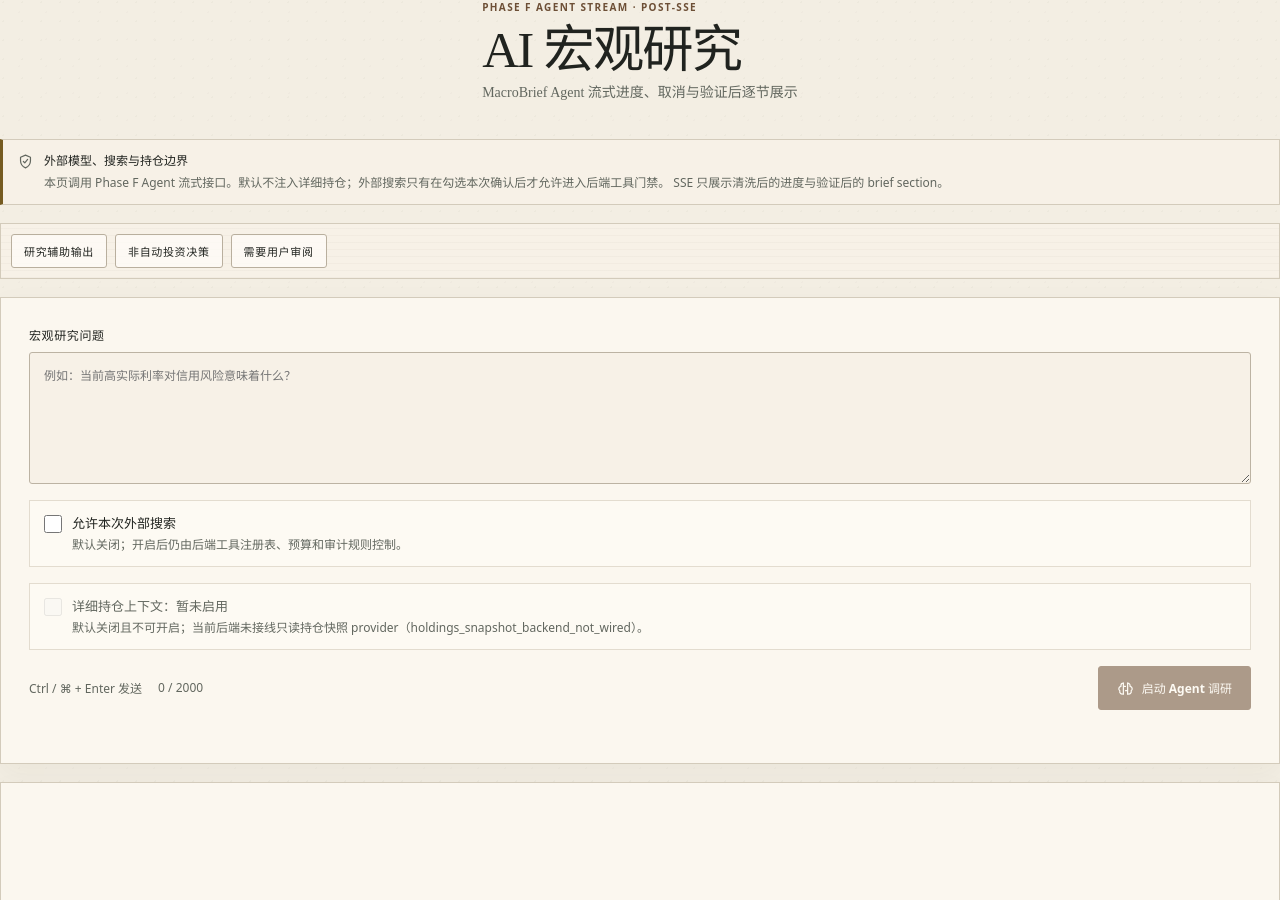
Scenario: AIChatPage Agent SSE › streams validated brief sections into the paper result panel
Type "当前高实际利率对信用风险意味着什么？" into the text box labelled "宏观研究问题" at (640, 418), box [29,352,1251,484]
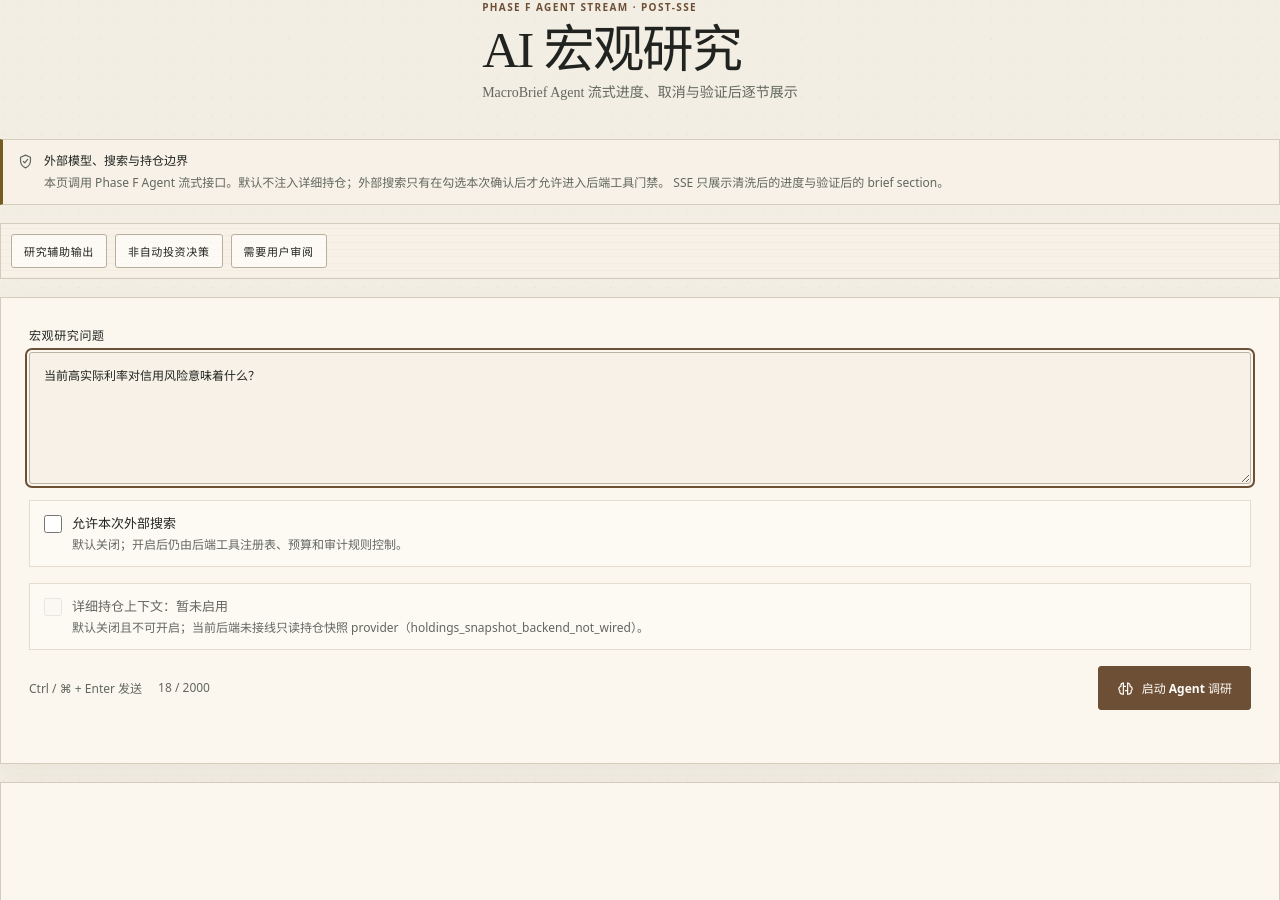
Click the button "启动 Agent 调研" at (1174, 688), box [1098,666,1251,710]
(page scrolled)
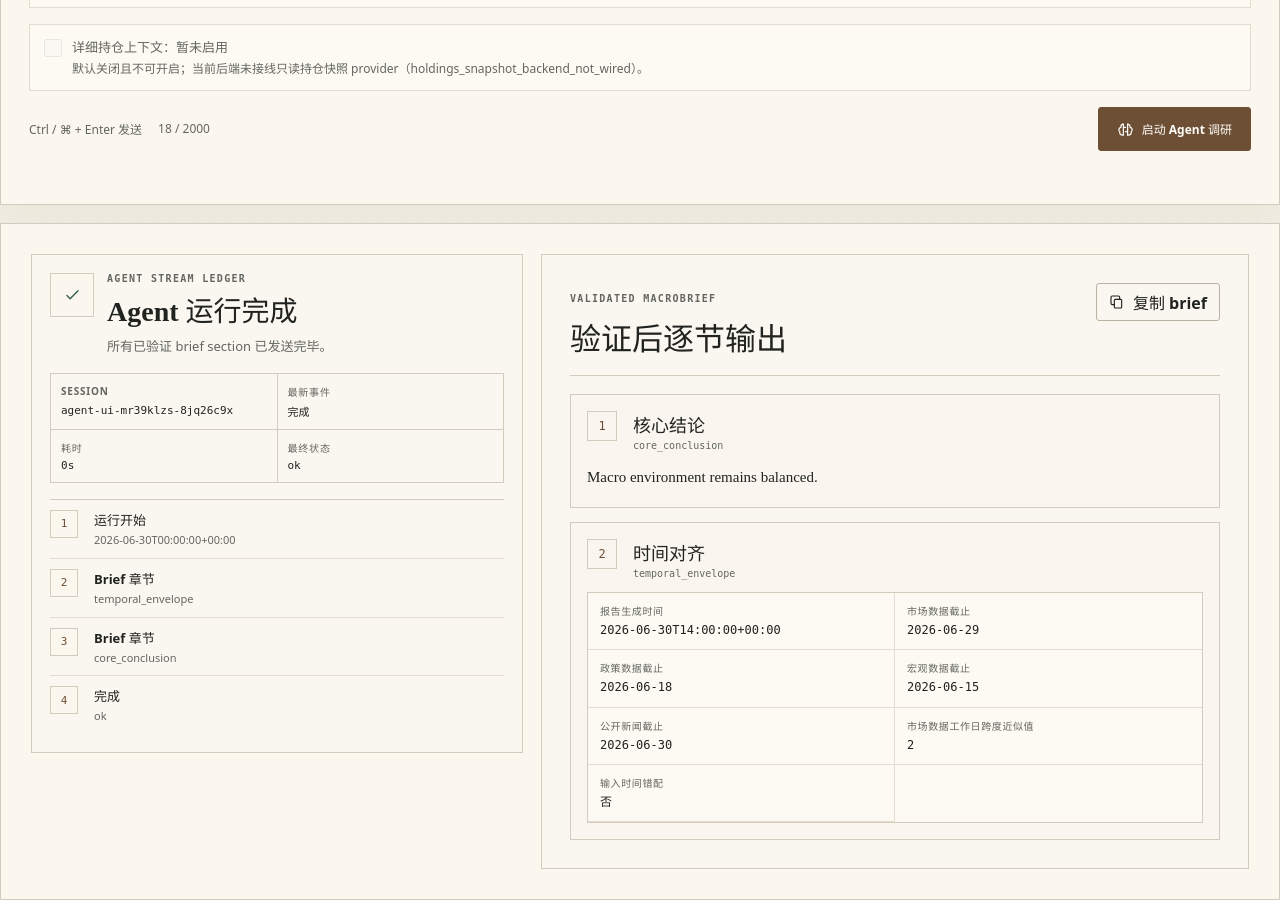
Result: the heading "时间对齐" is shown at [633,544,705,564]
Result: the text "市场数据截止" is shown at [907,604,971,618]
Result: the text "2026-06-29" is shown at [907,623,979,637]
